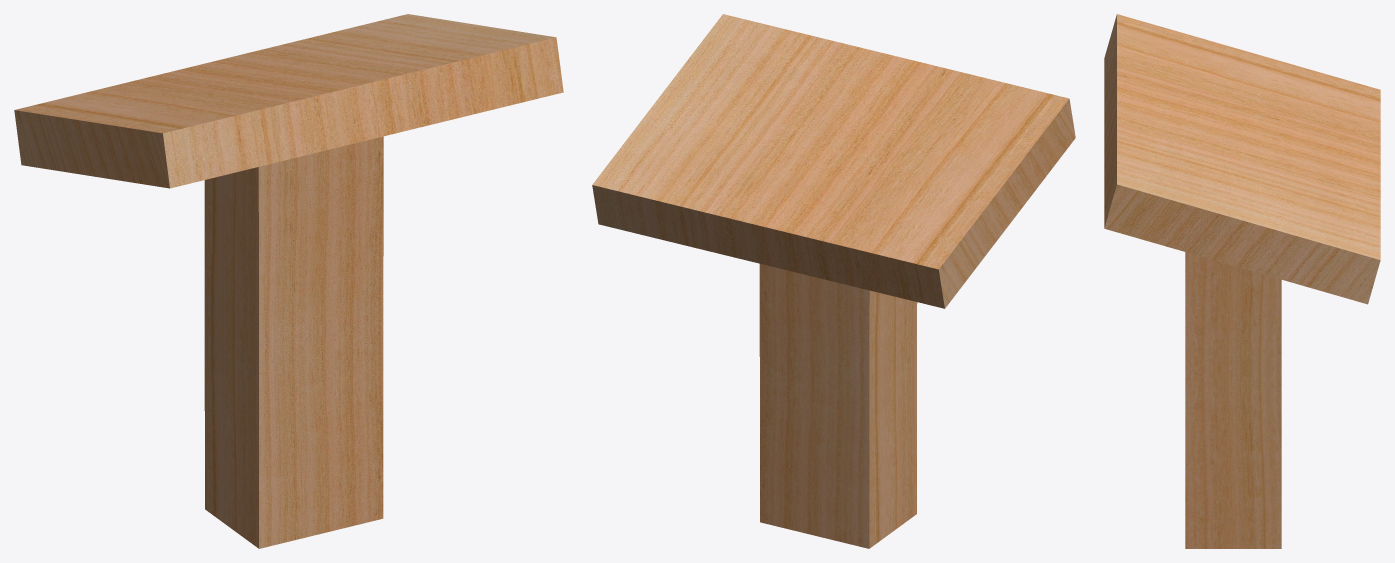
Rendered from stand.glb.
3 views of the same model, side by side, from view 1: azimuth 30°, elevation 25°; view 2: azimuth 150°, elevation 25°; view 3: azimuth 270°, elevation 25° (orthographic). The views are drawn at different scales.
Parts seen in each view (by area): view 1: Main; view 2: Main; view 3: Main.
Boxes of the visible parts, x1=… form: Main: x1=14, y1=14, x2=563, y2=548; Main: x1=592, y1=14, x2=1075, y2=548; Main: x1=1104, y1=14, x2=1380, y2=548.
Size of the model in its own units: 0.9001 by 1.04 by 0.6167.
Materials: 1 (1 with a texture image).
